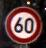Speed Limit -60-: (2, 5, 41, 44)
